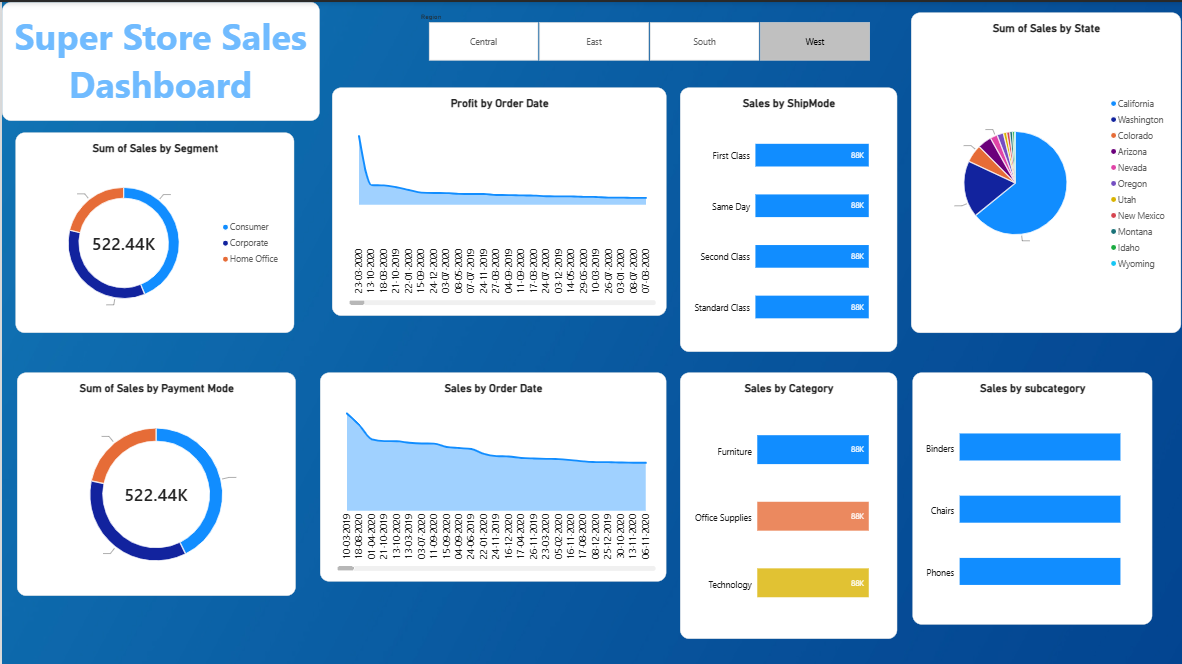

This screenshot's page, from the dashboard's own definition file:
{"tool":"powerbi","page":{"name":"Page 1","canvas":[1920,1080],"ordinal":0},"visuals":[{"type":"clusteredBarChart","title":"Sales by Category","fields":{"Category":["SuperStore_Sales_Dataset (2).Category"],"Y":["Sum(SuperStore_Sales_Dataset.Sales)"]},"box":[1103.3,603.3,353.3,433.3],"z":0},{"type":"clusteredBarChart","title":"Sales by subcategory","fields":{"Category":["SuperStore_Sales_Dataset (2).Sub-Category"],"Y":["Sum(SuperStore_Sales_Dataset.Sales)"]},"box":[1480,603.3,390,410],"z":1},{"type":"clusteredBarChart","title":"Sales by ShipMode","fields":{"Category":["SuperStore_Sales_Dataset (2).Ship Mode"],"Y":["Sum(SuperStore_Sales_Dataset.Sales)"]},"box":[1103.3,140,353.3,430],"z":2},{"type":"stackedAreaChart","title":"Sales by Order Date","fields":{"Category":["SuperStore_Sales_Dataset (2).Order Date"],"Y":["Sum(SuperStore_Sales_Dataset (2).Sales)"]},"box":[516.7,603.3,563.3,340],"z":3},{"type":"stackedAreaChart","title":"Profit by Order Date","fields":{"Category":["SuperStore_Sales_Dataset (2).Order Date"],"Y":["Sum(SuperStore_Sales_Dataset (2).Profit)"]},"box":[535.8,138.9,544.3,371.3],"z":4},{"type":"pieChart","fields":{"Category":["SuperStore_Sales_Dataset (2).State"],"Y":["Sum(SuperStore_Sales_Dataset (2).Sales)"]},"box":[1479.7,17,439.4,521.6],"z":5},{"type":"donutChart","fields":{"Category":["SuperStore_Sales_Dataset (2).Segment"],"Y":["Sum(SuperStore_Sales_Dataset (2).Sales)"]},"box":[22.7,212.6,453.5,326],"z":6},{"type":"donutChart","fields":{"Category":["SuperStore_Sales_Dataset (2).Payment Mode"],"Y":["Sum(SuperStore_Sales_Dataset (2).Sales)"]},"box":[23.3,603.3,453.3,363.3],"z":7},{"type":"slicer","fields":{"Values":["SuperStore_Sales_Dataset (2).Region"]},"box":[673.3,16.7,756.7,80],"z":8},{"type":"textbox","box":[0,0,516.7,193.3],"z":9}]}

Visuals, with their boxes in screenshot pixels (x1, y1, x2, y2), scaled from the page's 1920x1080 canvas onto the 1182x664 screenshot:
"Sales by Category" clusteredBarChart: (679, 371, 897, 637)
"Sales by subcategory" clusteredBarChart: (911, 371, 1151, 623)
"Sales by ShipMode" clusteredBarChart: (679, 86, 897, 350)
"Sales by Order Date" stackedAreaChart: (318, 371, 665, 580)
"Profit by Order Date" stackedAreaChart: (330, 85, 665, 314)
pieChart - SuperStore_Sales_Dataset (2).State x Sum(SuperStore_Sales_Dataset (2).Sales): (911, 10, 1181, 331)
donutChart - SuperStore_Sales_Dataset (2).Segment x Sum(SuperStore_Sales_Dataset (2).Sales): (14, 131, 293, 331)
donutChart - SuperStore_Sales_Dataset (2).Payment Mode x Sum(SuperStore_Sales_Dataset (2).Sales): (14, 371, 293, 594)
slicer - SuperStore_Sales_Dataset (2).Region: (415, 10, 880, 59)
textbox: (0, 0, 318, 119)
